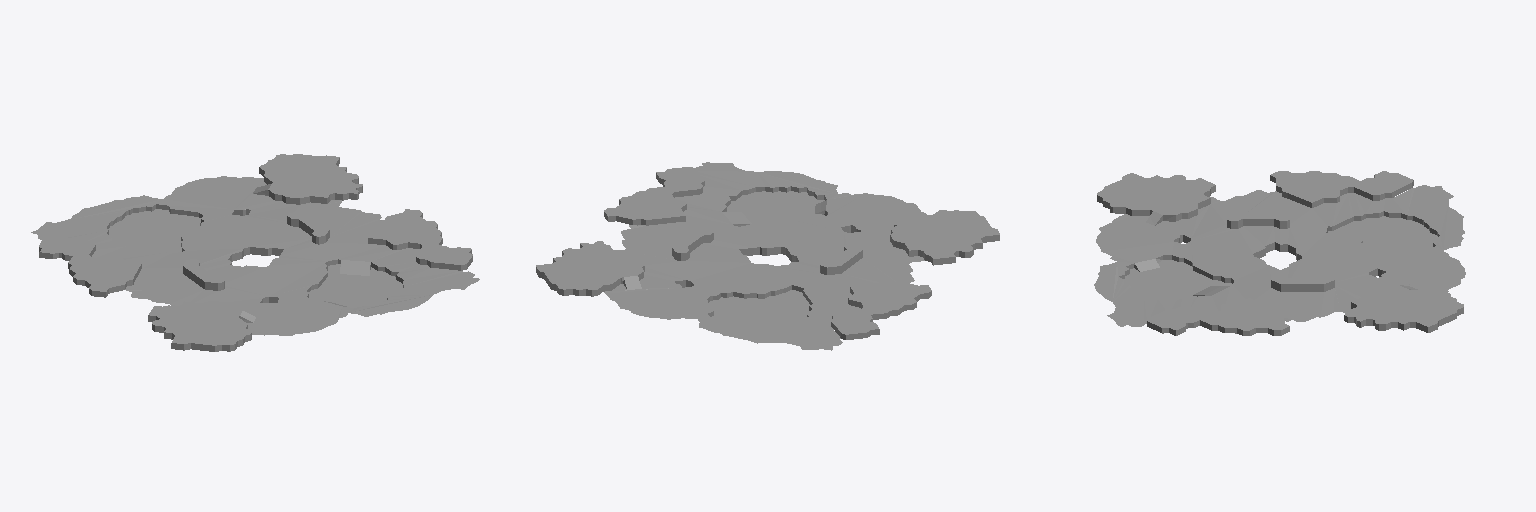
Rendered from caverneXELNAGA2.obj.
3 renders of one model, left to right at view 1: azimuth 30°, elevation 25°; view 2: azimuth 150°, elevation 25°; view 3: azimuth 270°, elevation 25°, orthographic.
Parts seen in each view (by area): view 1: Plane.006; view 2: Plane.006; view 3: Plane.006.
Boxes of the visible parts, <box> form: Plane.006: <box>31,154,479,351</box>; Plane.006: <box>536,162,999,350</box>; Plane.006: <box>1094,171,1465,335</box>.
Bounding box in the file's own units: 996 × 45.65 × 977.